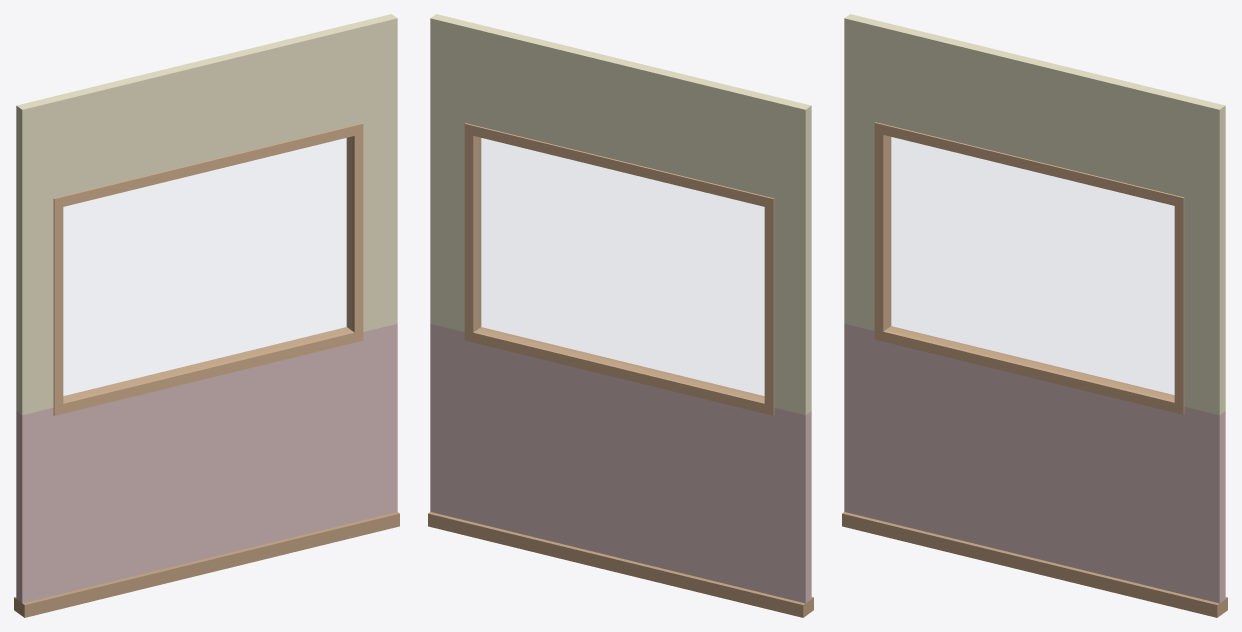
The model's file is wall with a window_1.fbx.
3 renders of one model, left to right at view 1: azimuth 30°, elevation 25°; view 2: azimuth 150°, elevation 25°; view 3: azimuth 330°, elevation 25°, orthographic.
Visible parts, largest first — view 1: Cube_14; view 2: Cube_14; view 3: Cube_14.
Boxes of the visible parts, x1,y1,x2,y2 form: Cube_14: (14,14,399,617); Cube_14: (428,14,813,617); Cube_14: (842,14,1227,617).
Bounding box in the file's own units: 69.25 × 89.3 × 3.39.
